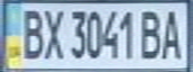0: (84, 7, 103, 60)
1: (118, 7, 139, 60)
3: (66, 6, 87, 60)
4: (103, 6, 121, 60)
A: (157, 6, 187, 61)
B: (15, 4, 45, 61), (136, 6, 166, 61)
X: (39, 4, 66, 61)
